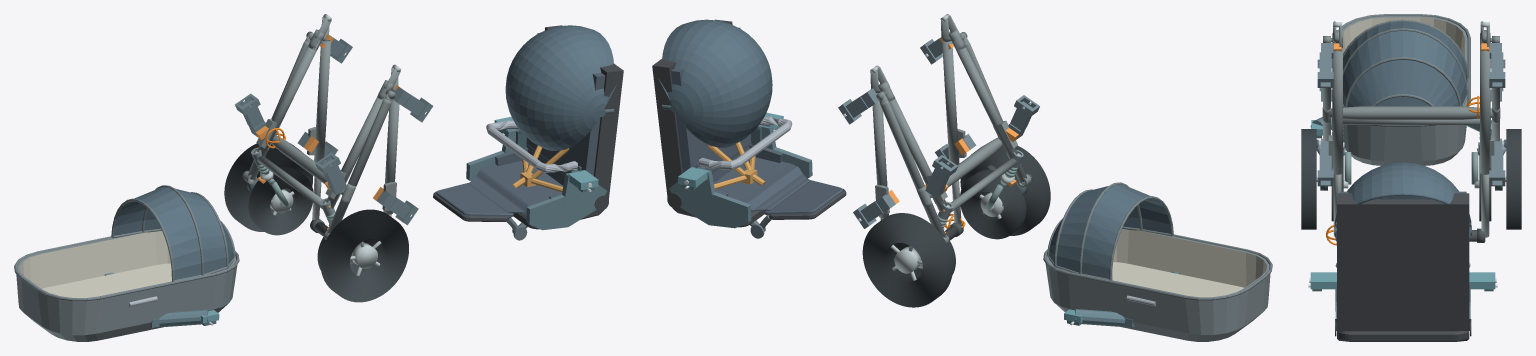
The model's file is D05_w550_state3_wheel_M.glb.
3 views of the same model, side by side, from view 1: azimuth 30°, elevation 25°; view 2: azimuth 150°, elevation 25°; view 3: azimuth 270°, elevation 25° (orthographic). The views are drawn at different scales.
Parts seen in each view (by area): view 1: D05_Upper, D05_Lower, RL_tire.004, D05_Lower_Mount_L, FR_tire.004, RR_tire.004, main_upper_1.005, V46_rear_leg_-1.005, main_lower_1.005, D05_Upper_Mount_H, main_lower_-1.005, main_upper_-1.005 (+8 smaller); view 2: D05_Upper, D05_Lower, RR_tire.004, D05_Lower_Mount_L, FL_tire.004, RL_tire.004, main_upper_-1.005, V46_rear_leg_1.005, main_lower_-1.005, D05_Upper_Mount_H, main_lower_1.005, main_upper_1.005 (+8 smaller); view 3: D05_Lower, D05_Upper, V46_rearbar.005, RL_tire.004, RR_tire.004, main_upper_1.005, main_upper_-1.005, D05_Lower_Mount_L, front_fixed_round_tube.004, Universal_Cabin_Receiver_M_-1, Universal_Cabin_Receiver_M_1, Universal_Cabin_Receiver_H_1 (+10 smaller).
Part boxes in pixels (x1,y1,x2,y2): D05_Upper: (14, 185, 239, 341); D05_Lower: (433, 25, 623, 240); RL_tire.004: (320, 209, 408, 302); D05_Lower_Mount_L: (466, 116, 606, 230); FR_tire.004: (248, 167, 313, 235); RR_tire.004: (224, 143, 312, 231); main_upper_1.005: (314, 40, 330, 162); V46_rear_leg_-1.005: (327, 98, 391, 233); main_lower_1.005: (257, 40, 319, 156); D05_Upper_Mount_H: (104, 272, 219, 327); main_lower_-1.005: (326, 96, 385, 208); main_upper_-1.005: (383, 92, 399, 214); D05_Upper: (1043, 182, 1272, 341); D05_Lower: (652, 19, 846, 238); RR_tire.004: (862, 213, 952, 307); D05_Lower_Mount_L: (669, 112, 812, 228); FL_tire.004: (960, 169, 1026, 239); RL_tire.004: (960, 145, 1050, 235); main_upper_-1.005: (942, 41, 959, 164); V46_rear_leg_1.005: (880, 100, 946, 237); main_lower_-1.005: (953, 41, 1017, 159); D05_Upper_Mount_H: (1064, 271, 1180, 327); main_lower_1.005: (887, 98, 947, 212); main_upper_1.005: (872, 93, 888, 218); D05_Lower: (1334, 162, 1471, 341); D05_Upper: (1338, 14, 1470, 165); V46_rearbar.005: (1329, 106, 1493, 119); RL_tire.004: (1301, 129, 1316, 229); RR_tire.004: (1506, 129, 1521, 229); main_upper_1.005: (1480, 48, 1490, 174); main_upper_-1.005: (1332, 48, 1342, 174); D05_Lower_Mount_L: (1308, 272, 1497, 330); front_fixed_round_tube.004: (1343, 118, 1479, 124); Universal_Cabin_Receiver_M_-1: (1317, 43, 1333, 87); Universal_Cabin_Receiver_M_1: (1489, 43, 1505, 87); Universal_Cabin_Receiver_H_1: (1489, 141, 1505, 186).
Bounding box in the file's own units: 2.1 × 0.747 × 0.656.
